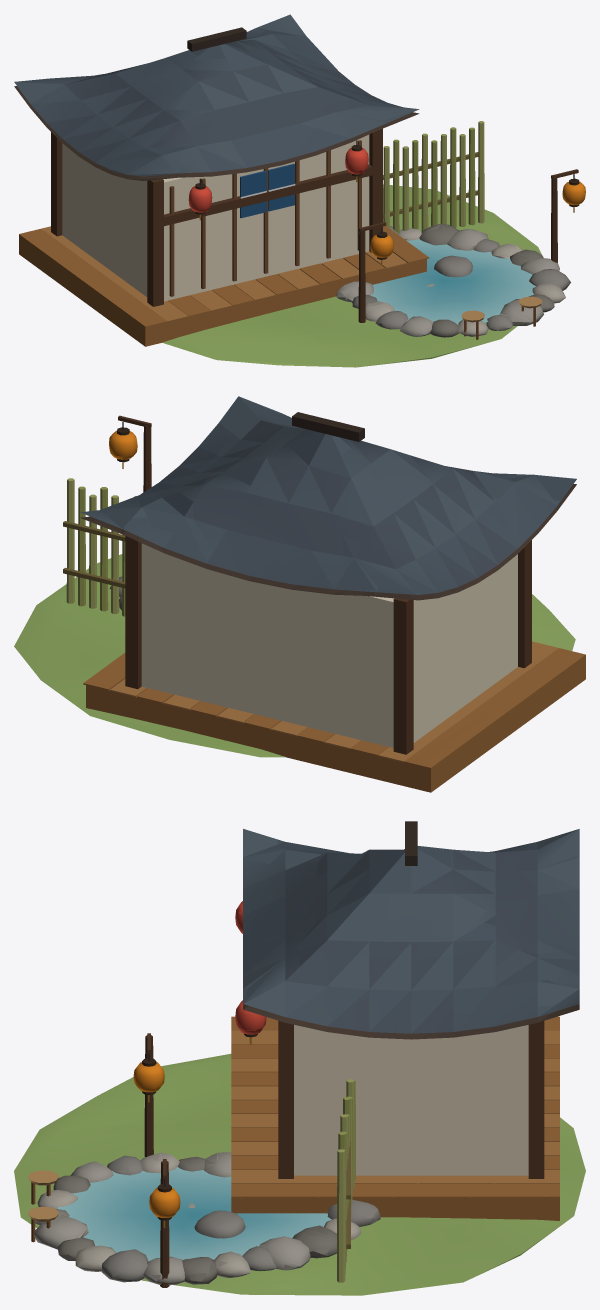
File: bath_house.glb
3 renders of one model, top to bottom at view 1: azimuth 30°, elevation 25°; view 2: azimuth 150°, elevation 25°; view 3: azimuth 270°, elevation 25°, orthographic. The views are drawn at different scales.
Parts seen in each view (by area): view 1: decor-bath_house, decor-bath_house-far; view 2: decor-bath_house-far, decor-bath_house; view 3: decor-bath_house, decor-bath_house-far.
Boxes of the visible parts, bbox=[...] form: decor-bath_house: bbox=[14, 14, 585, 367]; decor-bath_house-far: bbox=[14, 18, 559, 360]; decor-bath_house-far: bbox=[72, 396, 585, 792]; decor-bath_house: bbox=[14, 396, 585, 792]; decor-bath_house: bbox=[14, 829, 585, 1295]; decor-bath_house-far: bbox=[35, 821, 579, 1288].
Size of the model in its own units: 7.92 by 4.23 by 7.31.
